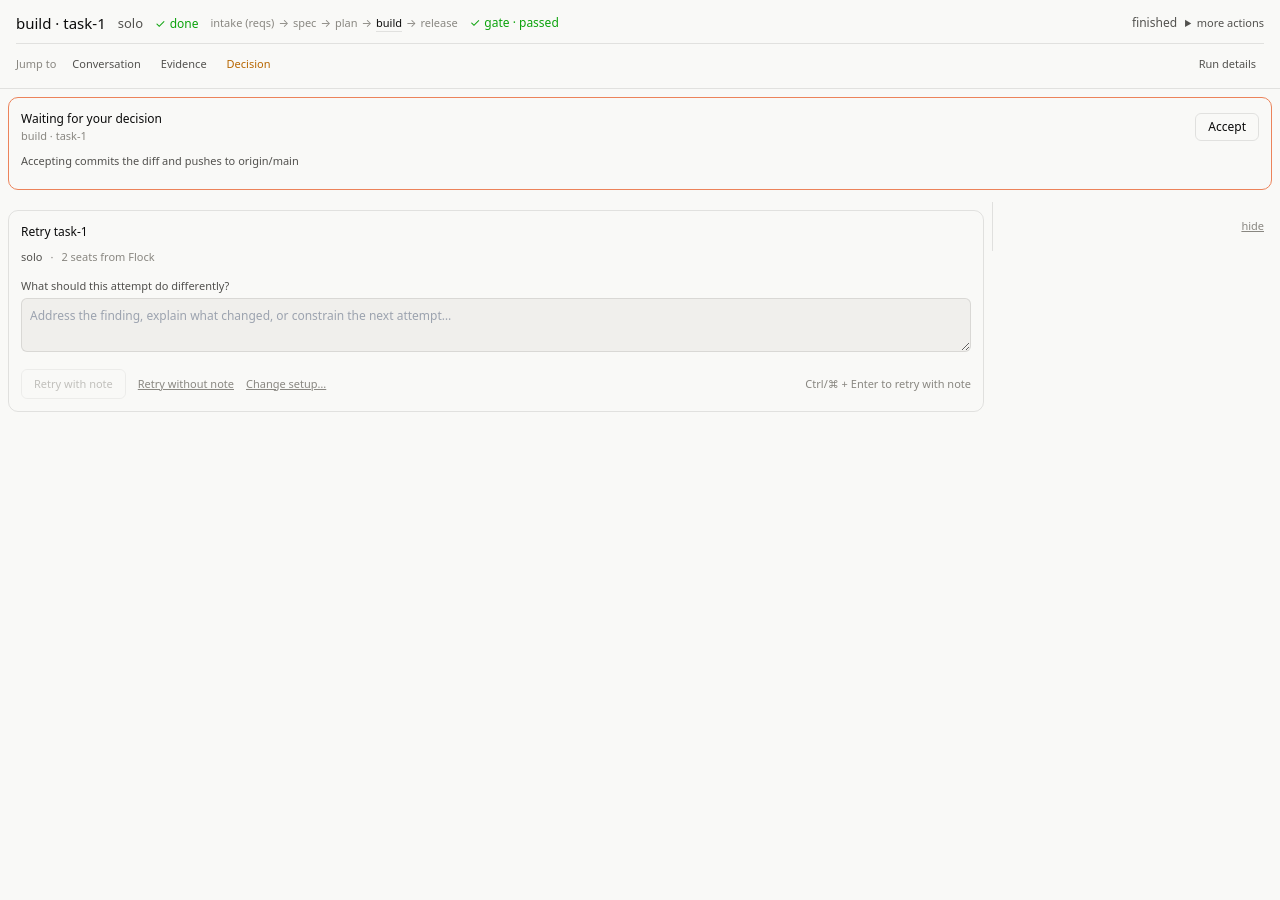
Test case: RunView publication consequences › shows a missing repository remote as local-only information without a retry
Step 1. Click the button with test id "cycle-accept" → {"x": 1227, "y": 127}, box x1=1195 y1=113 x2=1259 y2=141
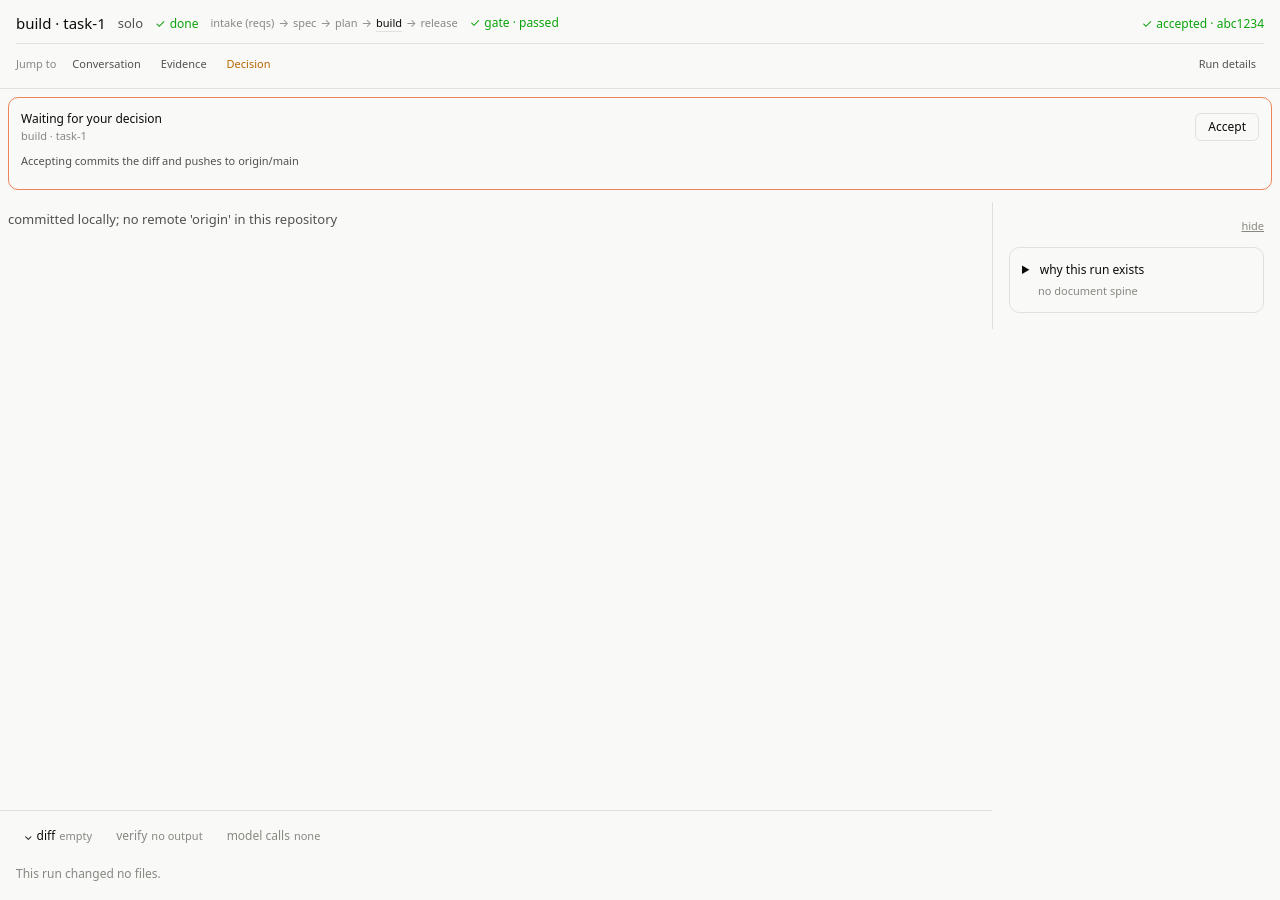
Check: the text with test id "publication-local-only" reads "committed locally; no remote 'origin' in this repository", box x1=8 y1=210 x2=337 y2=228
